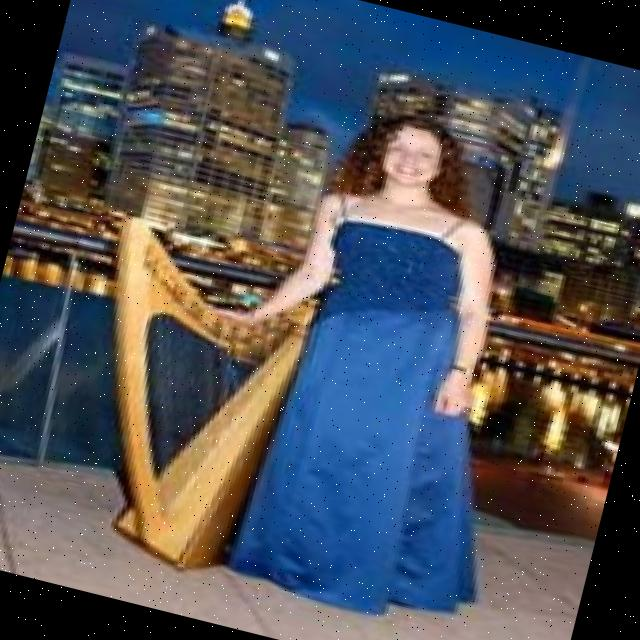harp: (42, 204, 344, 586)
